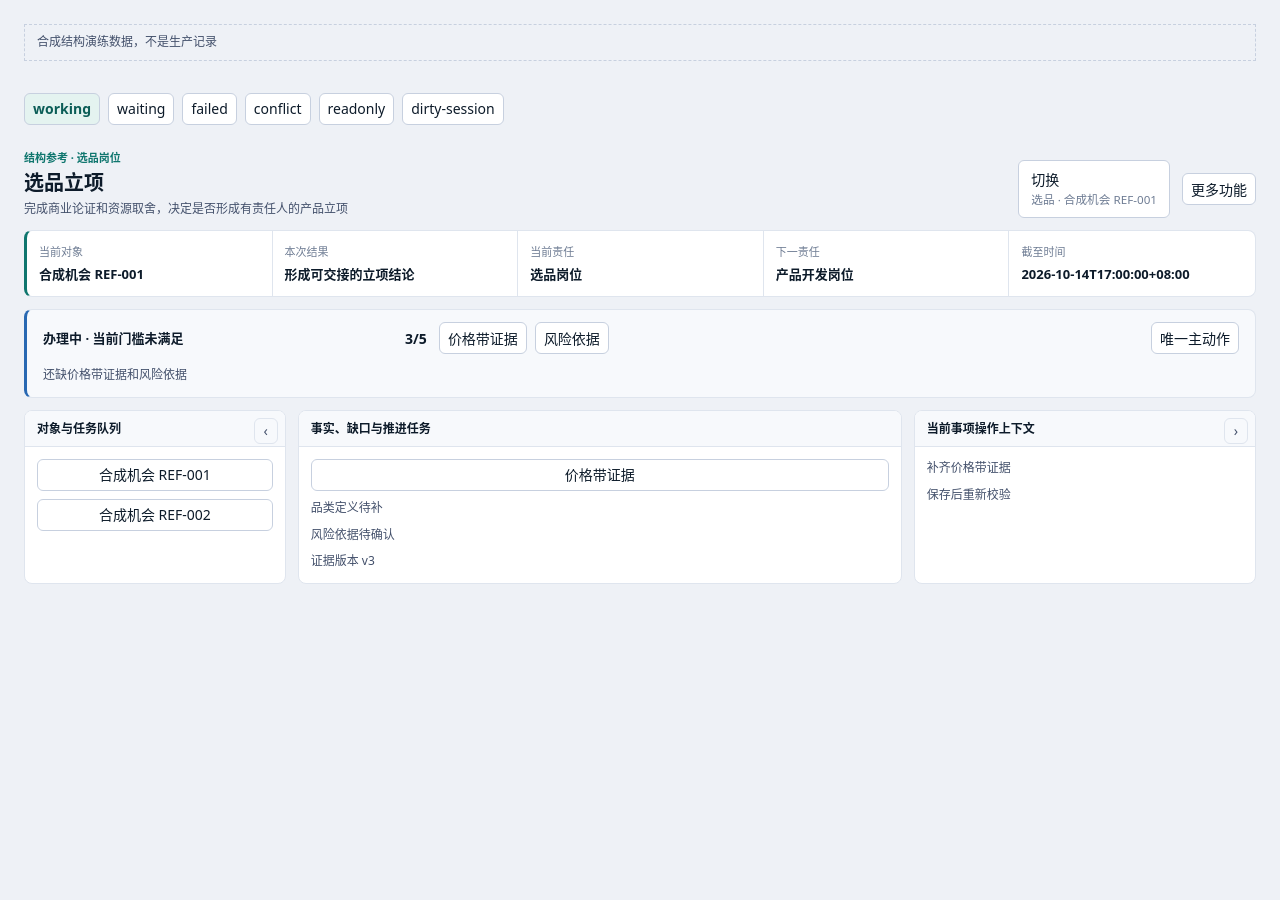
UniversalWorkbenchReferenceView › keeps exactly one current session after switching
Click the button with aria-label "切换工作现场（结构参考）". click: (1094, 189)
box: [1018,160,1170,218]
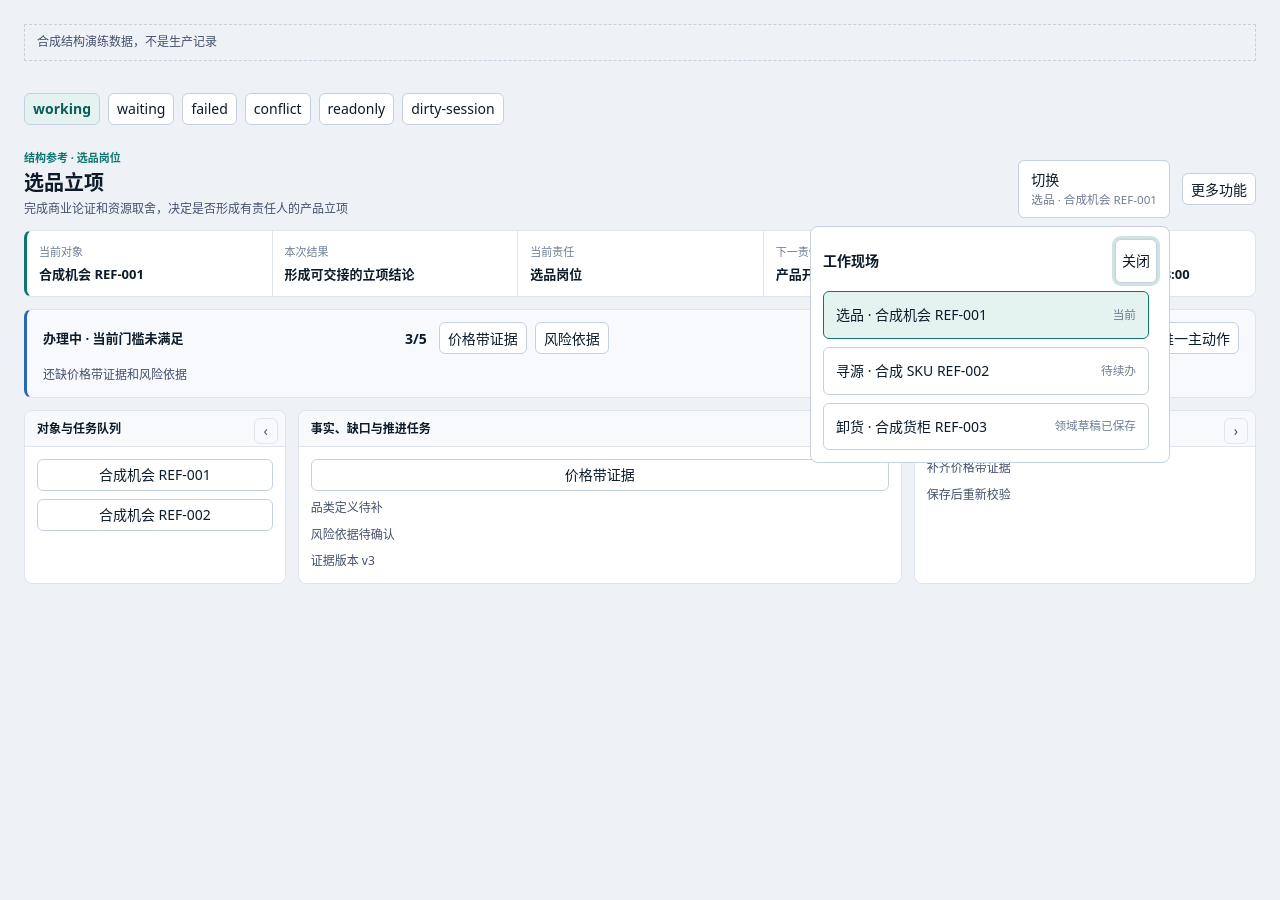
Click the button "寻源 · 合成 SKU REF-002 待续办". click: (986, 371)
box: [823,347,1149,395]
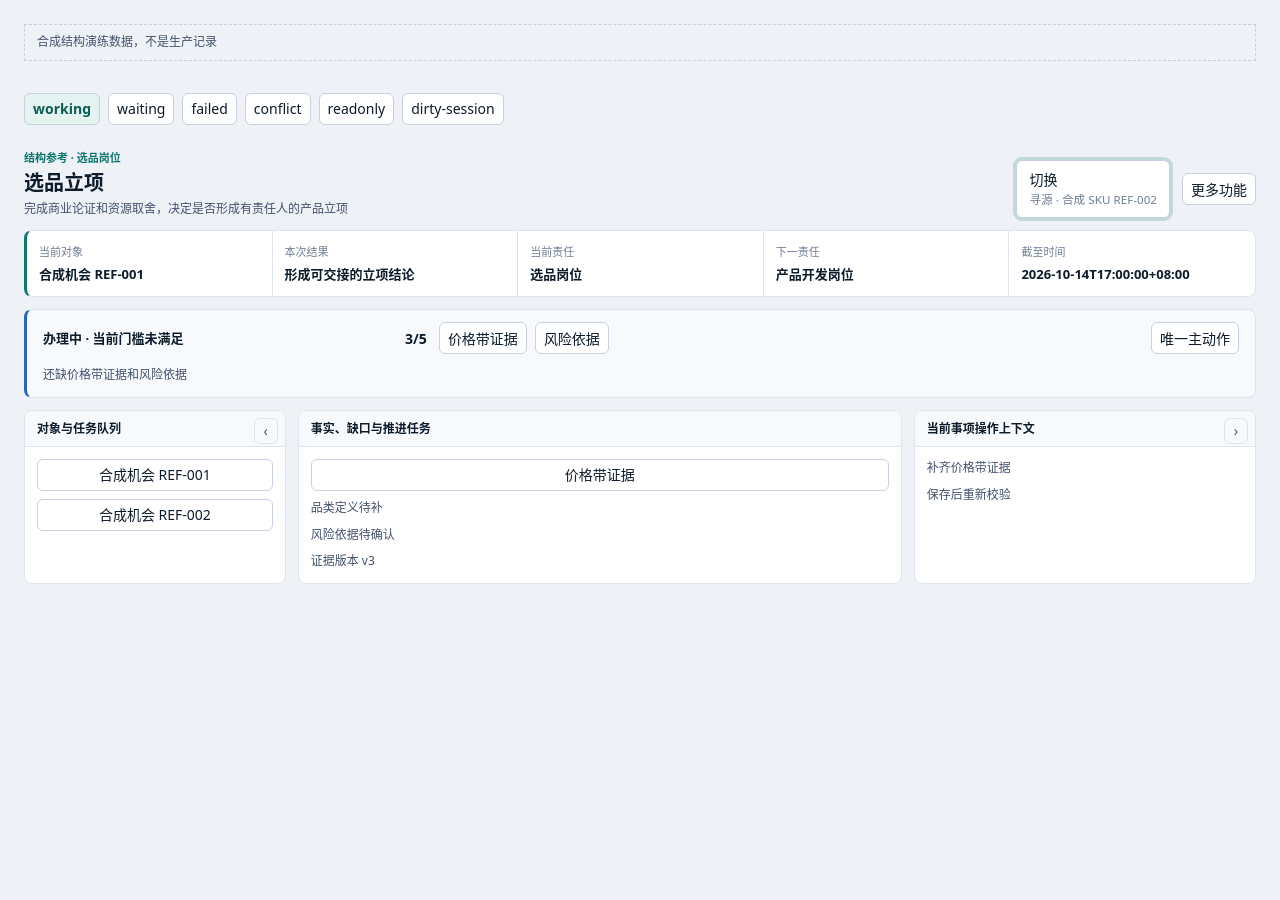
Click the button with aria-label "切换工作现场（结构参考）". click: (1093, 189)
box: [1016,160,1170,218]
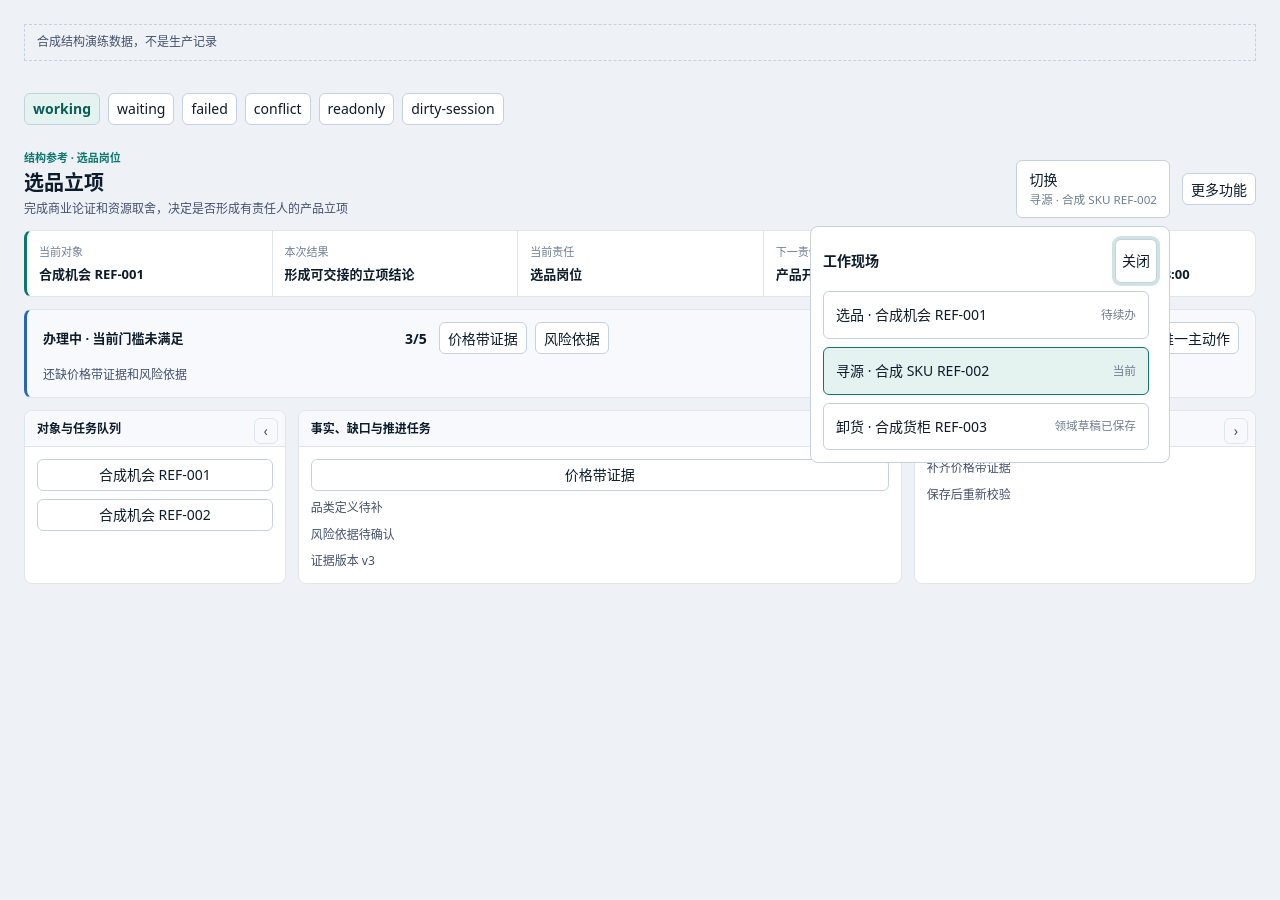
Now the button "寻源 · 合成 SKU REF-002 当前" is shown, box [823,347,1149,395]
